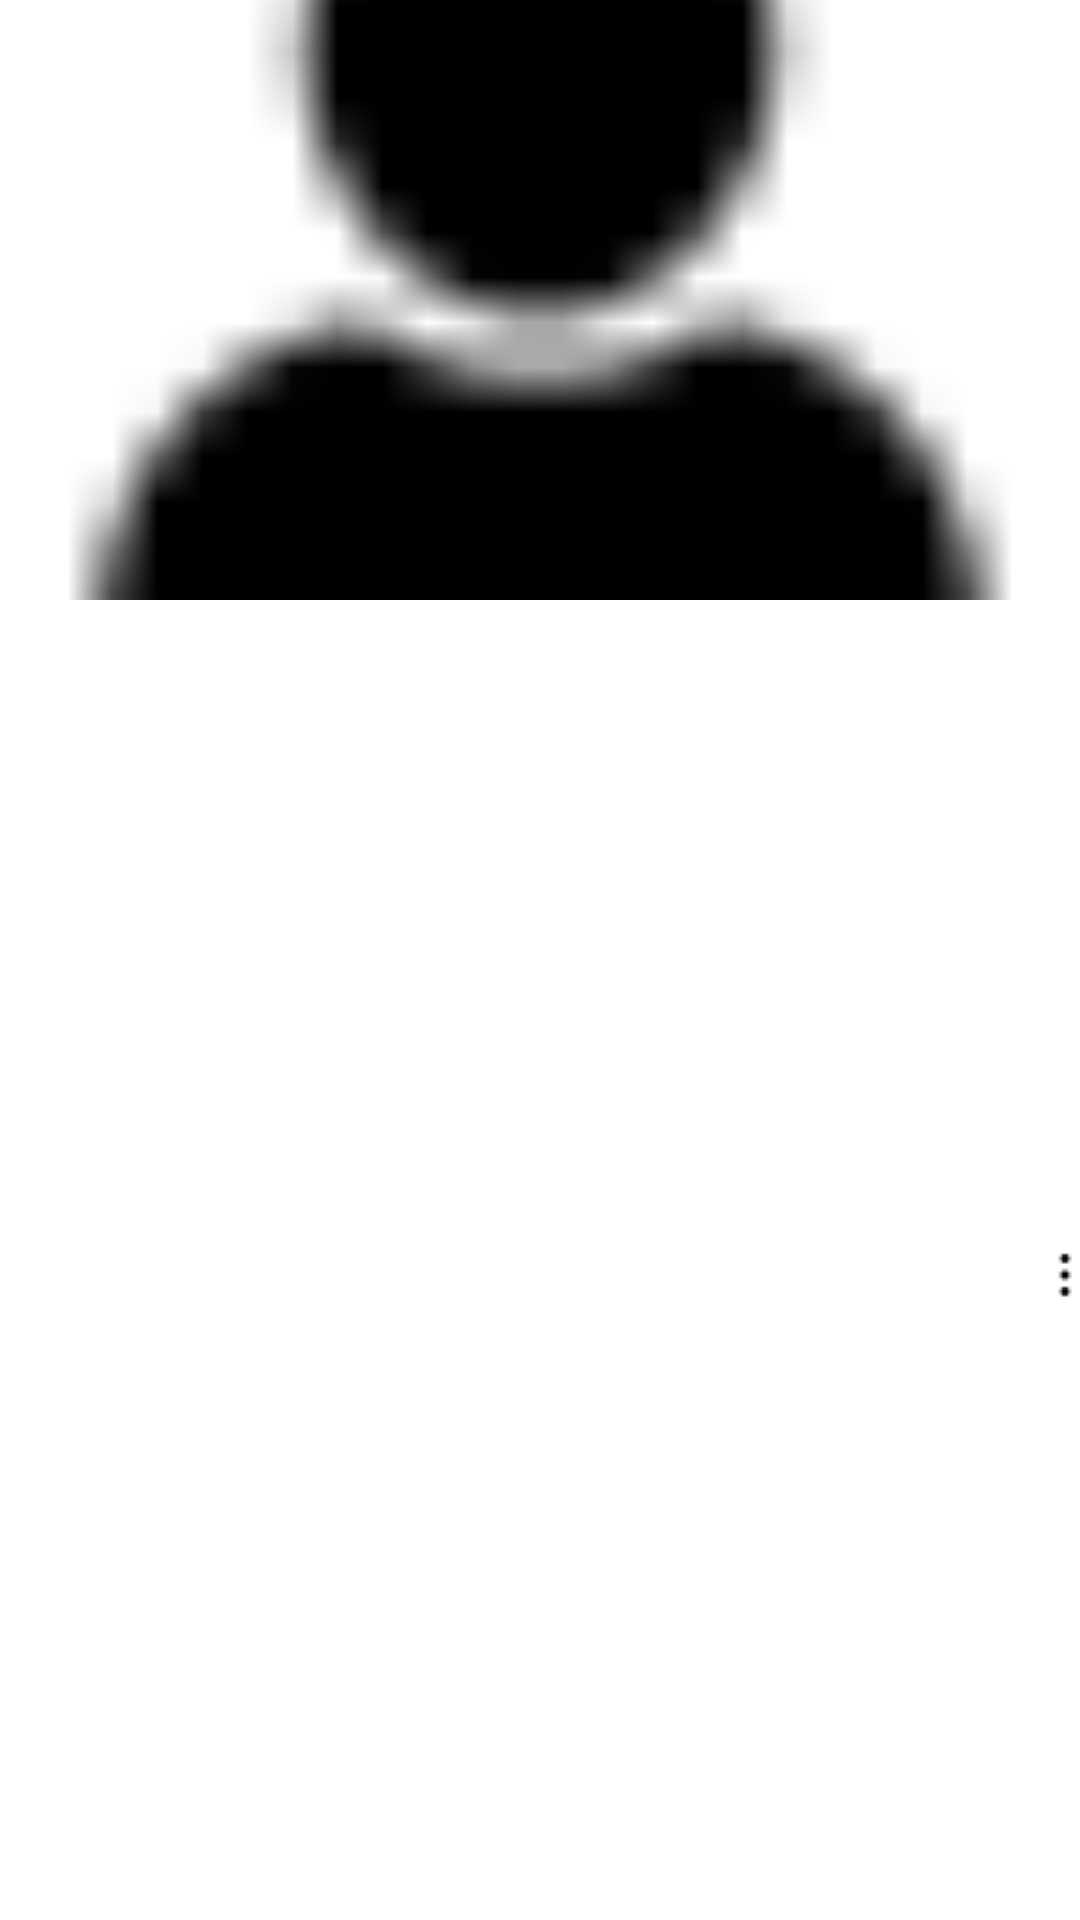

Where icons sit on this 1080*1920 app screen, as (x1=x1, y1=y1, x2=x2, y2=y2):
more: (x1=1058, y1=1253, x2=1072, y2=1297)
